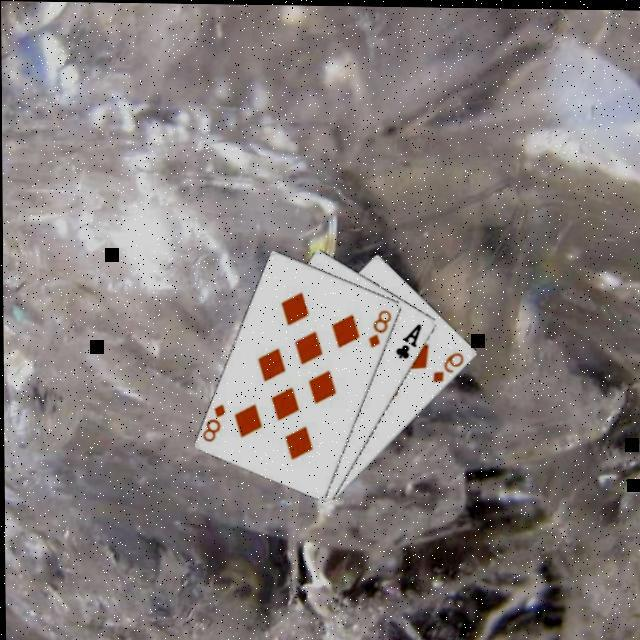8D: (365, 304, 395, 348), (199, 398, 229, 442)
9D: (429, 345, 467, 382)
AC: (393, 317, 425, 359)
